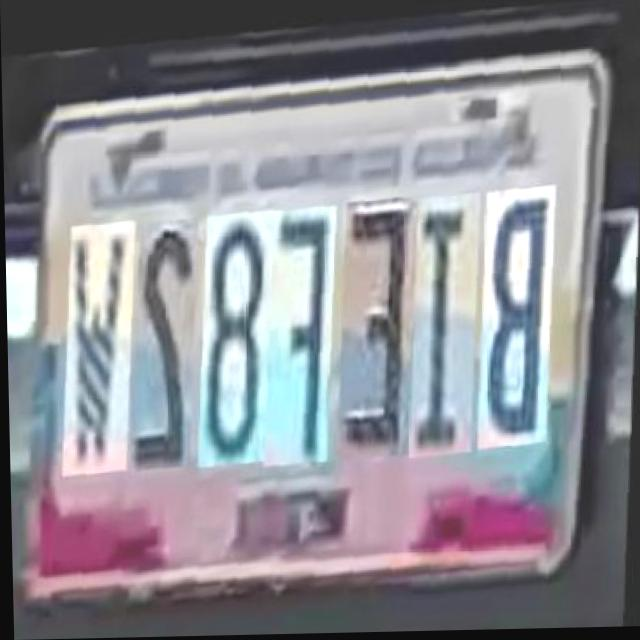2: (133, 200, 206, 454)
8: (200, 191, 281, 451)
b: (480, 165, 563, 429)
e: (340, 178, 425, 442)
f: (266, 188, 344, 449)
i: (412, 174, 489, 440)
w: (65, 204, 143, 460)
